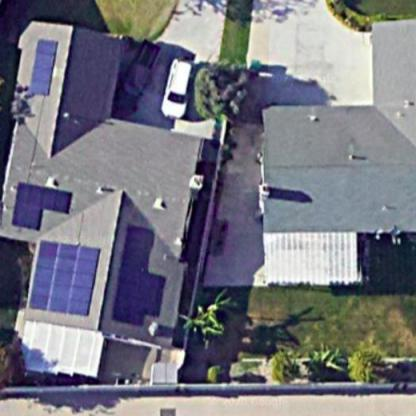car: (123, 33, 158, 99), (158, 54, 192, 120)
solar_panel: (108, 208, 169, 338), (28, 237, 100, 320), (9, 172, 76, 233), (26, 29, 57, 103)
